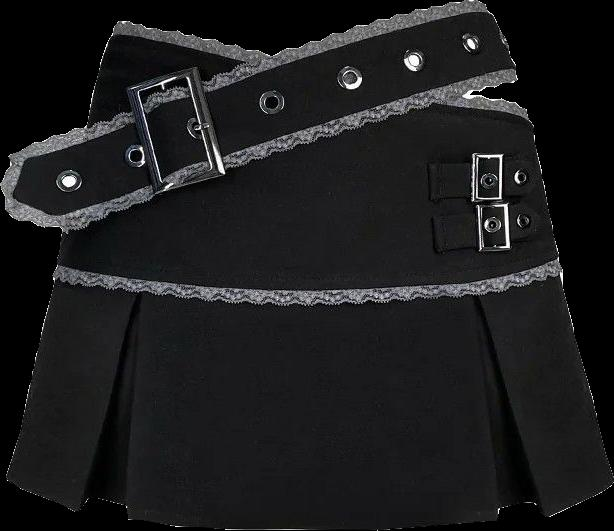Hemline: (4, 474, 613, 530)
Waistline: (117, 0, 479, 62), (57, 258, 562, 296)
